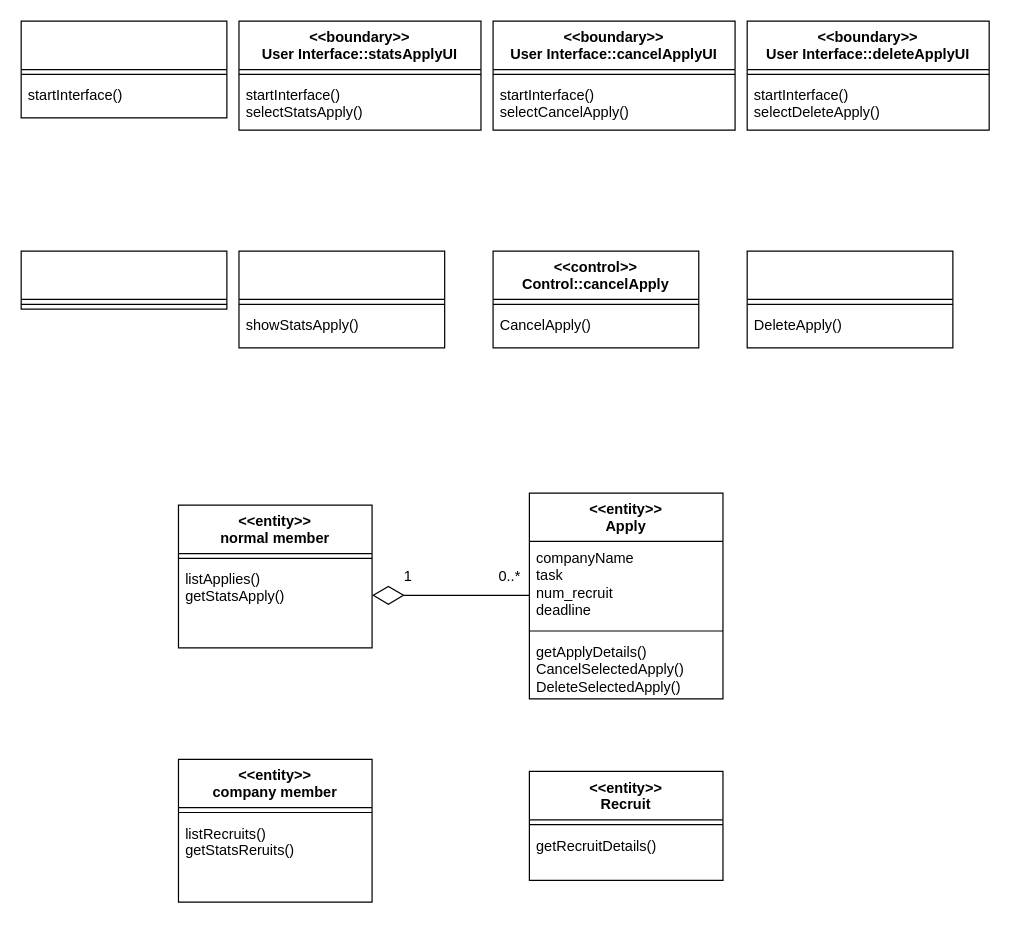
Some shapes in this 1010 by 927 pixel diagram are drawn without their labels. The box of each missing label's shape, as (x1, y1, x2, y2) in pixels:
<<boundary>> User Interface::viewApplyUI: (20, 20, 227, 118)
<<control>> Control::deleteApply: (746, 250, 953, 348)
<<control>> Control::statsApply: (238, 250, 445, 348)
<<control>> Control::viewApply: (20, 250, 227, 309)
